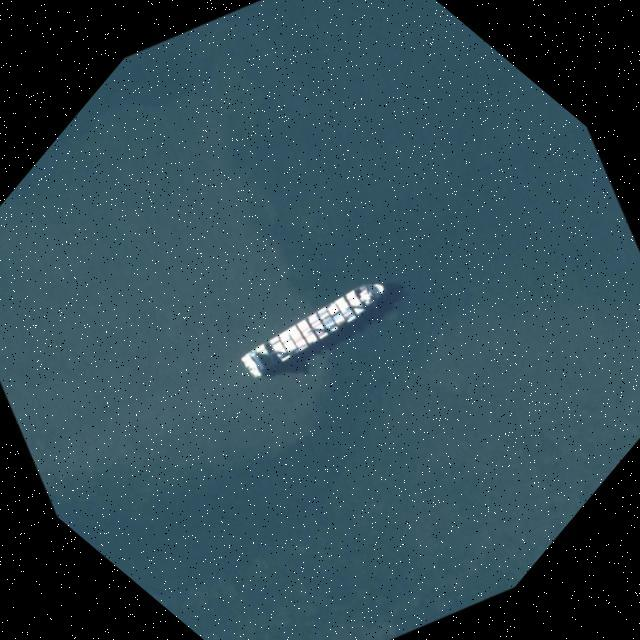ship: (240, 305, 390, 342)
